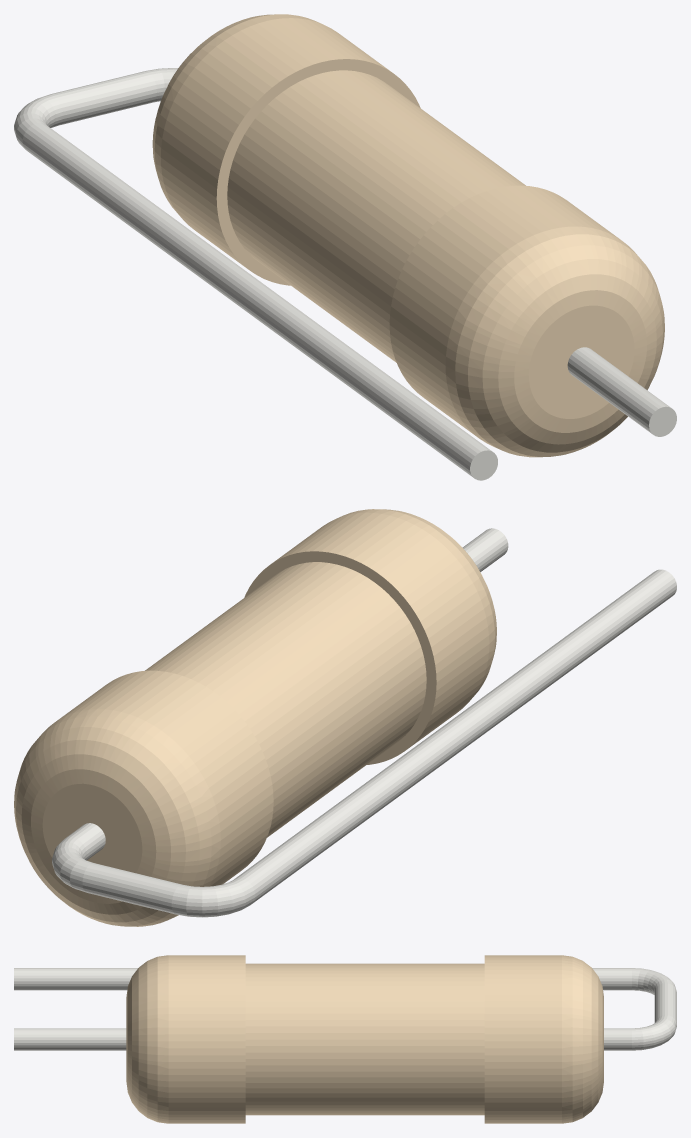
Rendered from R_Axial_DIN0617_L17.0mm_D6.0mm_P5.08mm_Vertical.glb.
3 views of the same model, one above another, from view 1: azimuth 30°, elevation 25°; view 2: azimuth 150°, elevation 25°; view 3: azimuth 270°, elevation 25° (orthographic). The views are drawn at different scales.
Visible parts, largest first — view 1: Shape_IndexedFaceSet.004, Shape_IndexedFaceSet.001, Shape_IndexedFaceSet.015, Shape_IndexedFaceSet, Shape_IndexedFaceSet.008, Shape_IndexedFaceSet.003, Shape_IndexedFaceSet.006, Shape_IndexedFaceSet.005, Shape_IndexedFaceSet.013, Shape_IndexedFaceSet.009, Shape_IndexedFaceSet.014; view 2: Shape_IndexedFaceSet.004, Shape_IndexedFaceSet.009, Shape_IndexedFaceSet.015, Shape_IndexedFaceSet, Shape_IndexedFaceSet.008, Shape_IndexedFaceSet.010, Shape_IndexedFaceSet.002, Shape_IndexedFaceSet.013, Shape_IndexedFaceSet.014, Shape_IndexedFaceSet.001, Shape_IndexedFaceSet.012, Shape_IndexedFaceSet.005 (+1 smaller); view 3: Shape_IndexedFaceSet.004, Shape_IndexedFaceSet, Shape_IndexedFaceSet.008, Shape_IndexedFaceSet.001, Shape_IndexedFaceSet.009, Shape_IndexedFaceSet.015, Shape_IndexedFaceSet.005, Shape_IndexedFaceSet.012, Shape_IndexedFaceSet.013, Shape_IndexedFaceSet.014, Shape_IndexedFaceSet.011.
Boxes of the visible parts, box(x1,y1,x2,y2) form: Shape_IndexedFaceSet.004: box(227, 70, 525, 362); Shape_IndexedFaceSet.001: box(445, 226, 664, 457); Shape_IndexedFaceSet.015: box(22, 123, 492, 477); Shape_IndexedFaceSet: box(389, 185, 620, 437); Shape_IndexedFaceSet.008: box(160, 18, 390, 268); Shape_IndexedFaceSet.003: box(528, 305, 634, 418); Shape_IndexedFaceSet.006: box(216, 59, 420, 285); Shape_IndexedFaceSet.005: box(567, 347, 670, 433); Shape_IndexedFaceSet.013: box(52, 71, 156, 125); Shape_IndexedFaceSet.009: box(152, 14, 321, 214); Shape_IndexedFaceSet.014: box(14, 94, 62, 148); Shape_IndexedFaceSet.004: box(145, 562, 426, 837); Shape_IndexedFaceSet.009: box(14, 709, 220, 926); Shape_IndexedFaceSet.015: box(235, 569, 676, 903); Shape_IndexedFaceSet: box(271, 512, 489, 749); Shape_IndexedFaceSet.008: box(56, 670, 273, 886); Shape_IndexedFaceSet.010: box(42, 783, 142, 873); Shape_IndexedFaceSet.002: box(244, 551, 436, 764); Shape_IndexedFaceSet.013: box(82, 863, 181, 914); Shape_IndexedFaceSet.014: box(171, 878, 255, 917); Shape_IndexedFaceSet.001: box(337, 509, 496, 696); Shape_IndexedFaceSet.012: box(52, 837, 92, 891); Shape_IndexedFaceSet.005: box(462, 528, 508, 571); Shape_IndexedFaceSet.004: box(245, 963, 484, 1115); Shape_IndexedFaceSet: box(168, 955, 245, 1123); Shape_IndexedFaceSet.008: box(484, 955, 561, 1123); Shape_IndexedFaceSet.001: box(126, 955, 168, 1123); Shape_IndexedFaceSet.009: box(562, 955, 603, 1123); Shape_IndexedFaceSet.015: box(14, 968, 631, 990); Shape_IndexedFaceSet.005: box(14, 1028, 126, 1050); Shape_IndexedFaceSet.012: box(632, 1015, 676, 1050); Shape_IndexedFaceSet.013: box(654, 983, 676, 1022); Shape_IndexedFaceSet.014: box(632, 968, 675, 994); Shape_IndexedFaceSet.011: box(604, 1028, 631, 1050).
Bounding box in the file's own units: 3.34 × 2.36 × 9.29.
